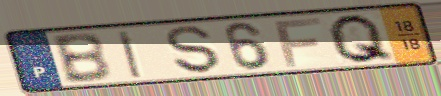6: (222, 21, 274, 72)
B: (49, 31, 115, 85)
F: (271, 16, 325, 69)
I: (115, 29, 144, 80)
Q: (325, 12, 399, 66)
S: (164, 25, 224, 75)
